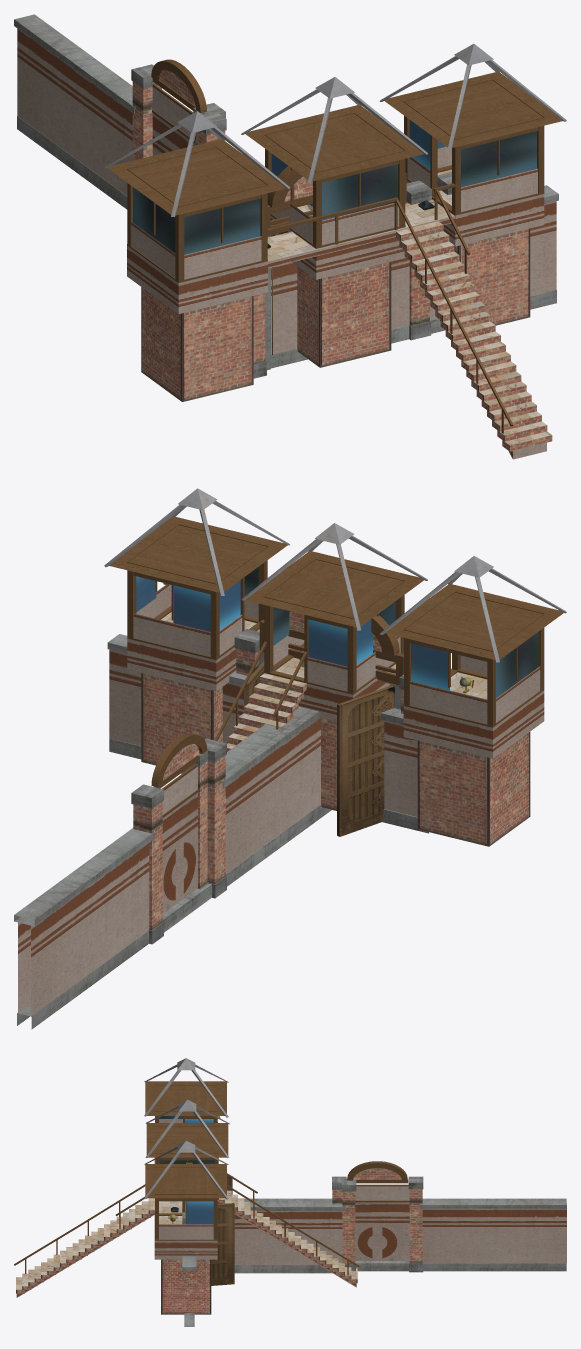
The model's file is Fences.fbx.
3 renders of one model, top to bottom at view 1: azimuth 30°, elevation 25°; view 2: azimuth 150°, elevation 25°; view 3: azimuth 270°, elevation 25°, orthographic. The views are drawn at different scales.
Visible parts, largest first — view 1: Fence:Tower01, Fence:Tower02, Fence:Fence02, Fence:Fence06, Fence:Fence10; view 2: Fence:Tower01, Fence:Fence02, Fence:Tower02, Fence:Door02, Fence:Fence06, Fence:Fence10, Fence:Fence03, Fence:Fence04; view 3: Fence:Fence02, Fence:Tower01, Fence:Fence03, Fence:Tower02, Fence:Door01, Fence:Fence10.
Boxes of the visible parts, x1,y1,x2,y2 form: Fence:Tower01: (104, 44, 566, 459); Fence:Tower02: (241, 77, 427, 367); Fence:Fence02: (14, 14, 226, 209); Fence:Fence06: (253, 166, 434, 378); Fence:Fence10: (391, 185, 558, 343); Fence:Tower01: (104, 488, 566, 846); Fence:Fence02: (14, 710, 331, 1029); Fence:Tower02: (214, 523, 427, 810); Fence:Door02: (337, 685, 394, 836); Fence:Fence06: (234, 611, 403, 713); Fence:Fence10: (107, 634, 141, 759); Fence:Fence03: (181, 706, 311, 889); Fence:Fence04: (208, 721, 328, 897); Fence:Fence02: (244, 1161, 566, 1272); Fence:Tower01: (14, 1058, 228, 1314); Fence:Fence03: (234, 1178, 356, 1273); Fence:Tower02: (145, 1099, 359, 1287); Fence:Door01: (211, 1203, 234, 1285); Fence:Fence10: (182, 1256, 196, 1326).
Bounding box in the file's own units: 1406 × 932 × 2637.
Materials: 36 (36 with a texture image).
